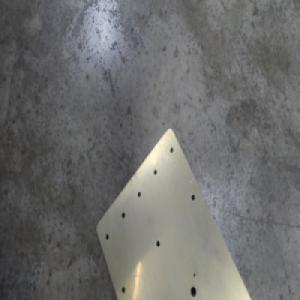MetalSheet: (94, 122, 254, 300)
